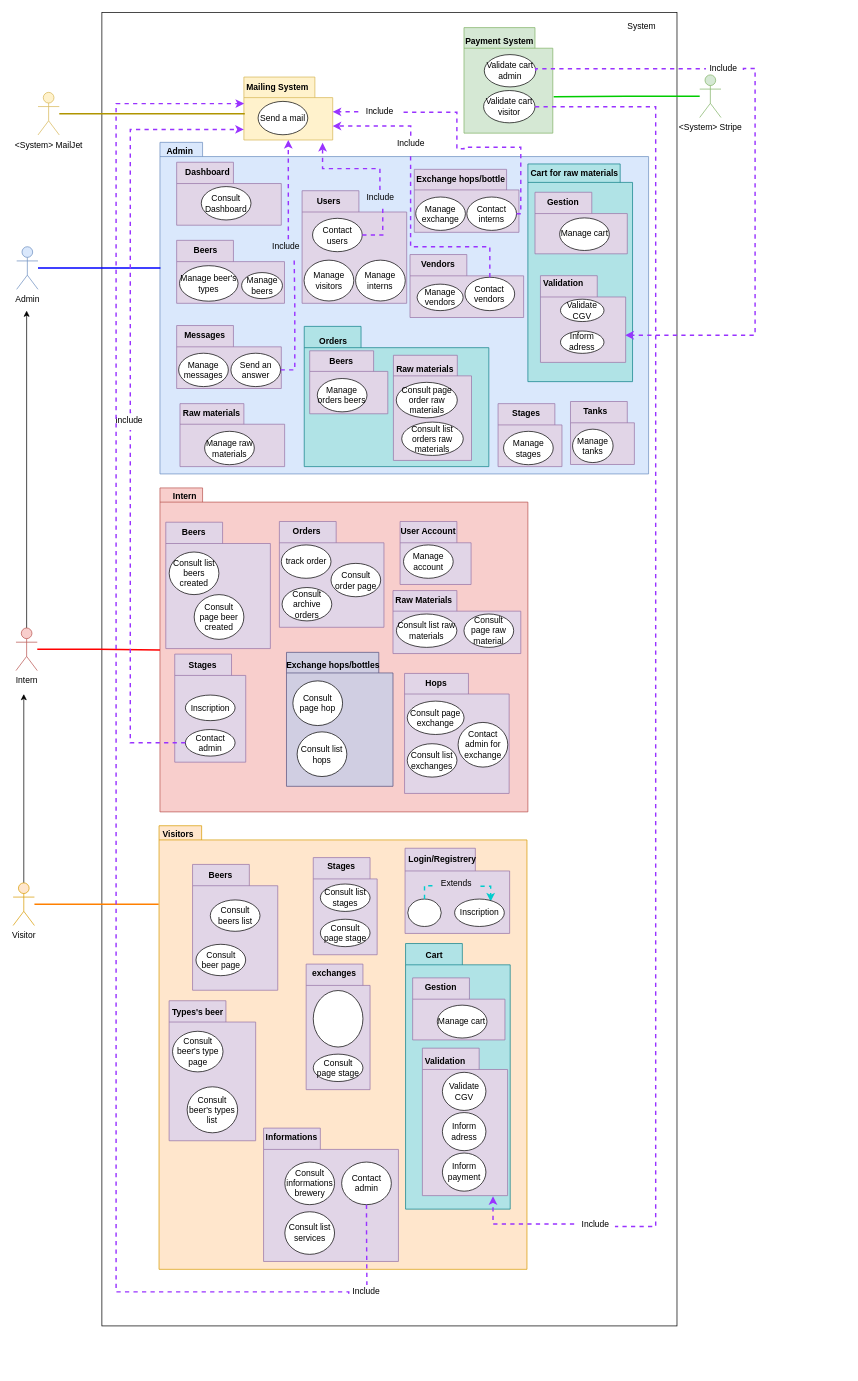
The diagram is 858 pixels wide and 1381 high, and some of its shapes have lost their labels. The box of each missing label's shape, as (x1, y1, x2, y2) in pixels:
Consult conditions for exchange: (313, 990, 363, 1047)
Login: (407, 898, 441, 926)
